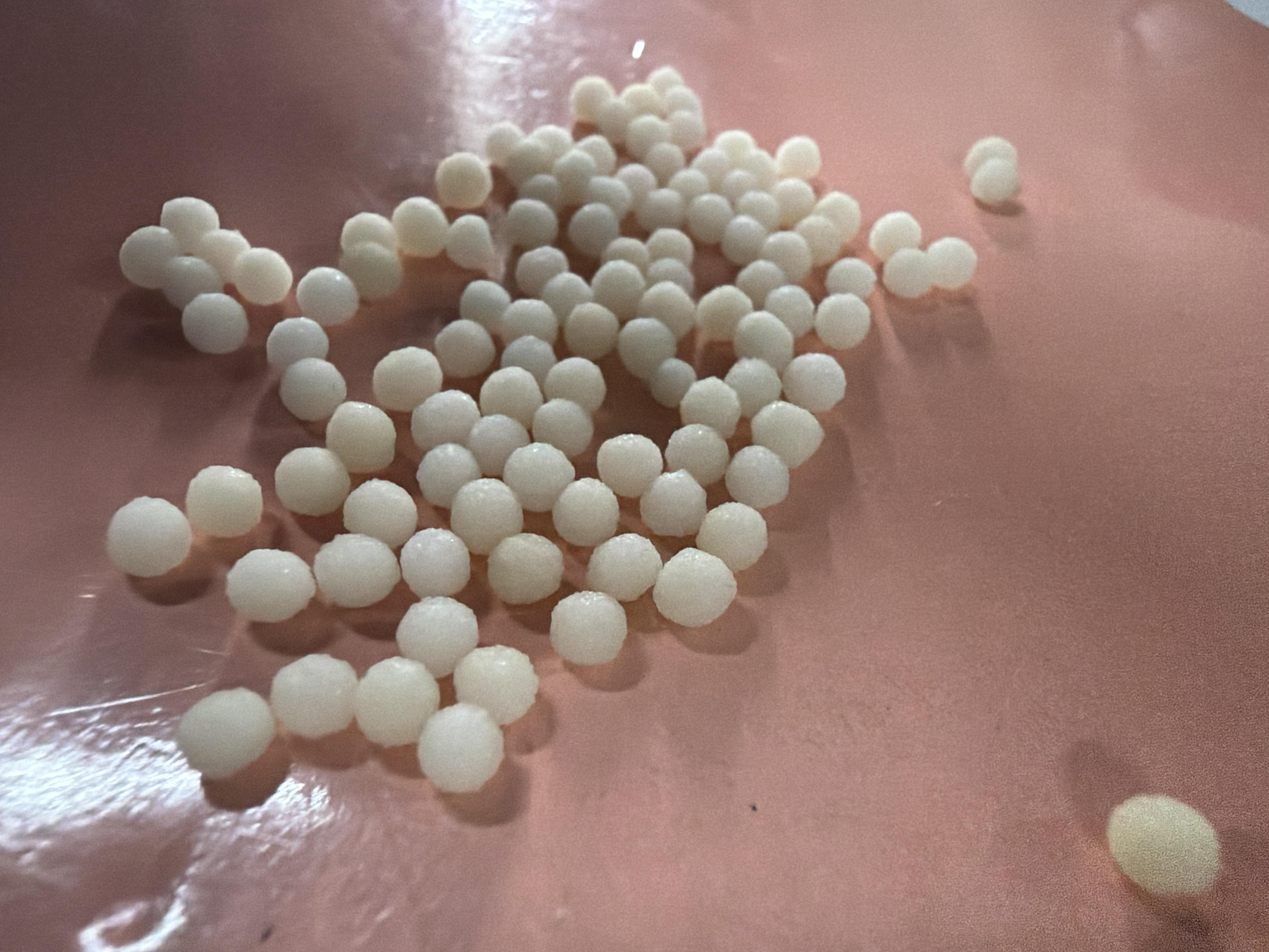pill: (99, 488, 190, 572), (1120, 797, 1212, 859), (275, 654, 358, 715), (351, 343, 438, 399), (436, 710, 511, 768), (359, 668, 434, 725), (324, 542, 380, 615), (568, 598, 640, 654), (474, 413, 541, 467), (200, 693, 262, 750), (559, 487, 618, 546), (467, 646, 536, 696), (423, 147, 491, 197), (403, 536, 467, 586), (242, 547, 301, 600), (194, 299, 258, 346), (491, 292, 559, 336), (779, 408, 832, 459), (425, 455, 486, 497), (521, 400, 576, 445), (291, 462, 351, 503), (464, 482, 520, 525), (670, 433, 726, 476), (647, 480, 698, 526), (596, 447, 663, 482), (269, 318, 322, 362), (692, 564, 746, 606), (404, 606, 459, 647), (338, 405, 389, 444), (823, 307, 875, 345), (557, 373, 608, 411), (675, 110, 721, 152), (489, 539, 537, 579), (730, 369, 778, 406), (365, 480, 396, 536), (515, 252, 569, 283), (491, 536, 535, 574), (187, 473, 231, 510), (755, 460, 800, 496), (109, 243, 173, 268), (656, 255, 697, 294), (170, 194, 215, 229), (570, 303, 622, 333), (301, 354, 337, 397), (747, 315, 787, 353), (620, 320, 659, 358), (650, 284, 687, 324), (935, 238, 974, 274), (804, 369, 847, 401), (779, 235, 815, 273), (489, 370, 521, 411), (891, 255, 934, 285), (650, 224, 693, 254), (757, 258, 790, 297), (252, 252, 282, 294), (746, 161, 788, 191), (304, 273, 348, 301), (518, 331, 546, 375), (870, 218, 909, 249), (752, 192, 800, 217), (463, 268, 493, 308), (176, 254, 209, 290), (508, 207, 551, 233), (697, 298, 739, 324), (656, 356, 688, 389), (455, 227, 488, 258), (445, 314, 469, 356), (703, 200, 735, 231), (511, 148, 541, 181), (685, 389, 722, 415), (729, 513, 758, 545), (439, 320, 468, 352), (672, 93, 702, 123), (337, 246, 377, 268), (729, 218, 753, 253), (596, 103, 623, 134), (571, 211, 606, 234), (831, 203, 861, 229), (404, 213, 433, 239), (801, 221, 831, 246), (617, 178, 656, 197), (655, 151, 682, 178), (219, 213, 234, 259), (521, 181, 555, 200), (552, 277, 583, 296), (578, 142, 606, 162), (680, 170, 708, 190), (784, 285, 802, 316), (622, 88, 643, 114), (705, 128, 747, 141), (776, 147, 814, 161), (640, 128, 663, 151), (419, 394, 452, 410), (351, 225, 382, 240), (647, 199, 676, 215), (962, 140, 998, 152), (593, 186, 614, 204), (790, 196, 817, 210), (988, 170, 1006, 188), (840, 266, 857, 285), (573, 79, 594, 93), (776, 188, 797, 201), (562, 161, 578, 178), (533, 129, 560, 139), (647, 70, 673, 79), (493, 126, 508, 139), (696, 153, 711, 163)
